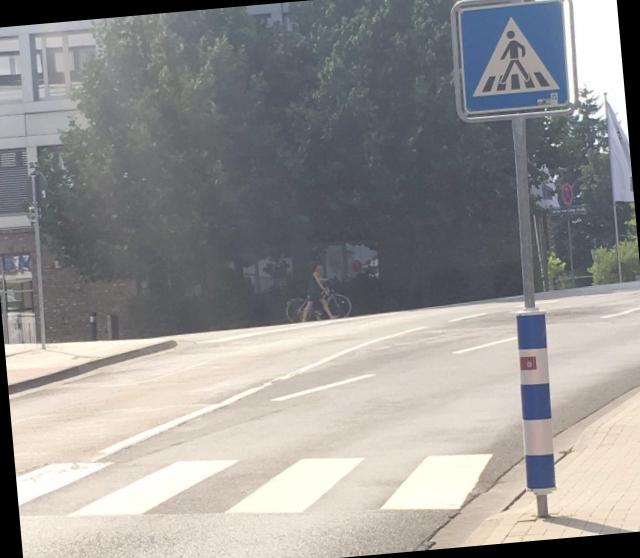crosswalk-sign: (446, 1, 582, 125)
